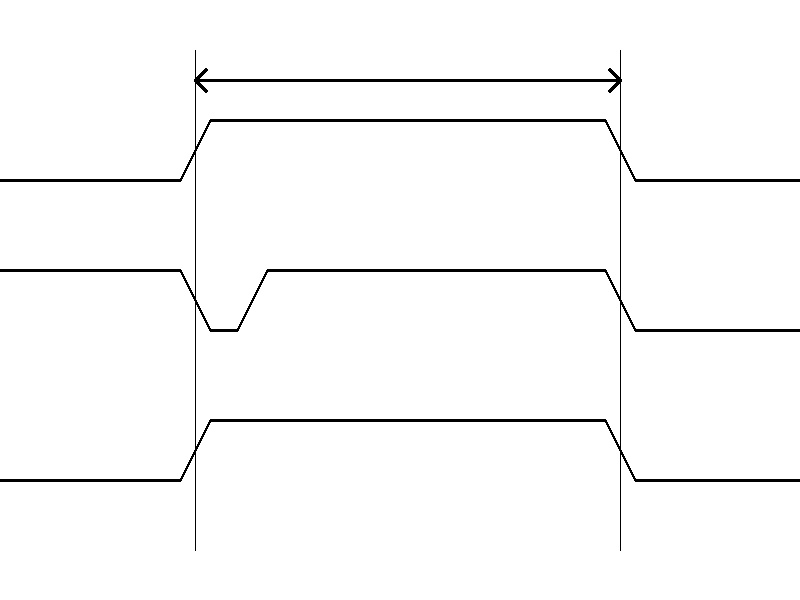double_arrow: (195, 65, 620, 95)
